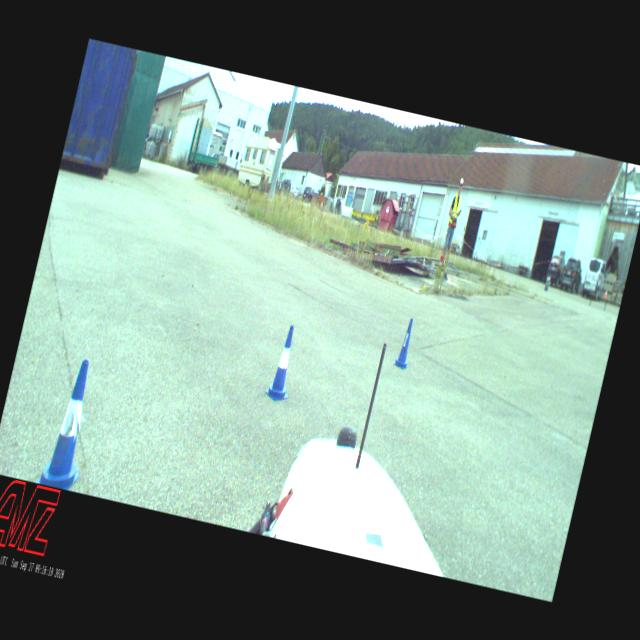blue_cone: (40, 356, 100, 490), (267, 324, 300, 399), (394, 316, 416, 366)
